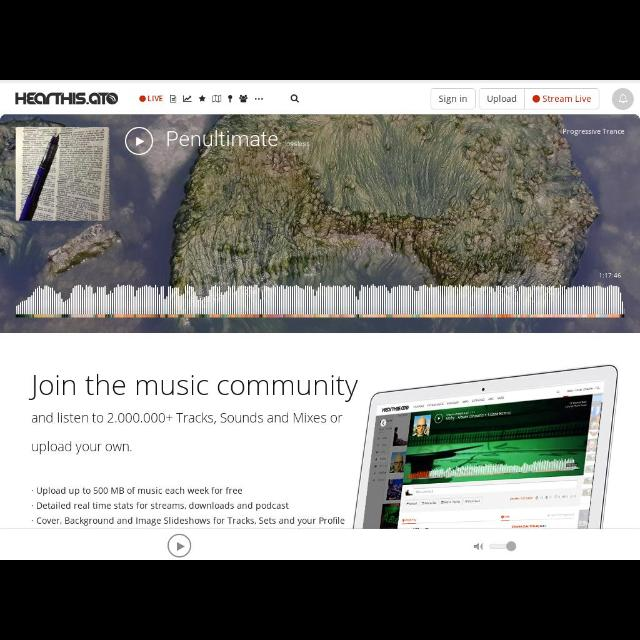button: (612, 88, 634, 112), (168, 536, 192, 556)
icon: (472, 543, 486, 551), (619, 94, 627, 105), (212, 94, 222, 102), (238, 95, 248, 103), (182, 95, 192, 102), (176, 542, 184, 550), (170, 95, 178, 102), (198, 95, 206, 101), (291, 96, 299, 102), (254, 97, 264, 101), (228, 96, 232, 102), (31, 488, 34, 494), (30, 503, 34, 507), (31, 519, 34, 523)
image: (1, 115, 639, 333), (350, 366, 618, 530), (14, 92, 118, 108)
switch: (490, 542, 516, 552)
text: (29, 375, 358, 401), (31, 412, 342, 426), (37, 517, 345, 527), (37, 502, 289, 511), (36, 486, 244, 496), (31, 440, 132, 454), (438, 94, 469, 106), (544, 95, 590, 103), (487, 94, 517, 106), (147, 93, 163, 103)
textbutton: (525, 90, 599, 110), (480, 90, 524, 108), (432, 90, 474, 108)
toolbar: (1, 85, 639, 113)
